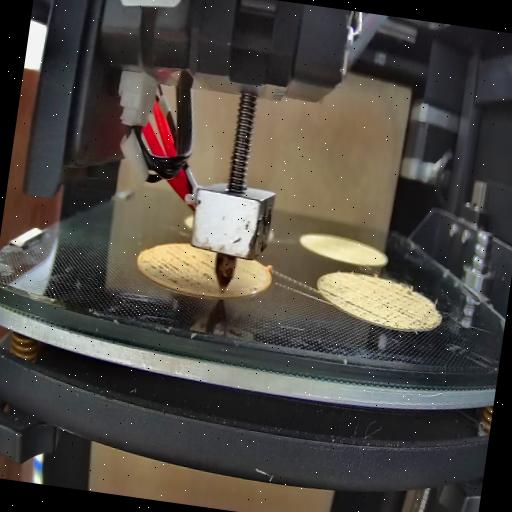under_extrusion: (340, 274, 442, 332), (136, 250, 219, 288), (246, 274, 266, 296), (320, 286, 340, 300)
